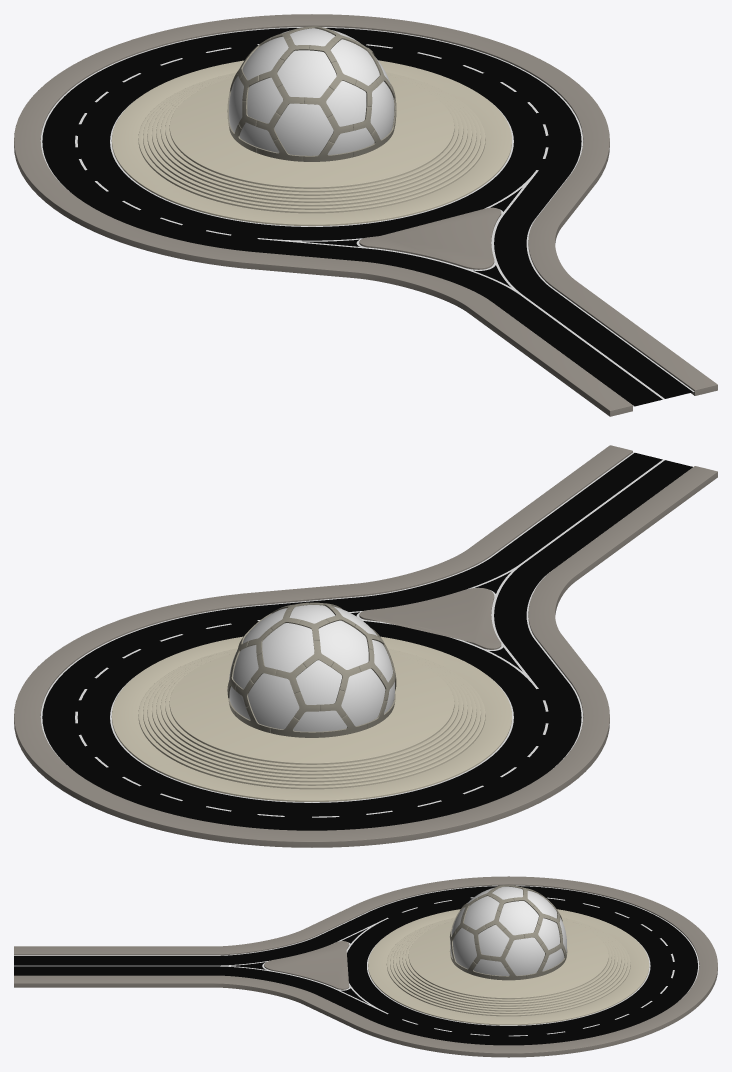
File: small_dome_simple.fbx
3 renders of one model, top to bottom at view 1: azimuth 30°, elevation 25°; view 2: azimuth 150°, elevation 25°; view 3: azimuth 270°, elevation 25°, orthographic. The views are drawn at different scales.
Parts seen in each view (by area): view 1: small road, small sidewalk, small sidewalk.001, small dome glass, small dome frame part 3, small dome frame part 6, small dome frame part 2, small dome frame part 4; view 2: small road, small sidewalk, small sidewalk.001, small dome glass, small dome frame part 3, small dome frame part 6, small dome frame part 2, small dome frame part 4, small dome frame part 5; view 3: small road, small sidewalk, small sidewalk.001, small dome glass, small dome frame part 6, small dome frame part 3, small dome frame part 2, small dome frame part 5, small dome frame part 4.
Part boxes in pixels (left/top/right/bottom): small road: left=40, top=27, right=694, bottom=406; small sidewalk: left=14, top=14, right=717, bottom=416; small sidewalk.001: left=111, top=60, right=511, bottom=226; small dome glass: left=229, top=28, right=394, bottom=155; small dome frame part 3: left=230, top=29, right=396, bottom=161; small dome frame part 6: left=227, top=26, right=388, bottom=161; small dome frame part 2: left=247, top=37, right=378, bottom=90; small dome frame part 4: left=238, top=84, right=396, bottom=143; small road: left=40, top=452, right=692, bottom=830; small sidewalk: left=14, top=445, right=717, bottom=847; small sidewalk.001: left=111, top=636, right=511, bottom=802; small dome glass: left=229, top=605, right=394, bottom=731; small dome frame part 3: left=227, top=602, right=393, bottom=737; small dome frame part 6: left=235, top=602, right=396, bottom=737; small dome frame part 2: left=247, top=606, right=378, bottom=667; small dome frame part 4: left=228, top=664, right=393, bottom=719; small dome frame part 5: left=235, top=657, right=396, bottom=718; small road: left=14, top=885, right=699, bottom=1045; small sidewalk: left=14, top=876, right=717, bottom=1057; small sidewalk.001: left=368, top=909, right=649, bottom=1025; small dome glass: left=450, top=886, right=566, bottom=975; small dome frame part 6: left=450, top=888, right=567, bottom=980; small dome frame part 3: left=450, top=885, right=567, bottom=978; small dome frame part 2: left=462, top=886, right=550, bottom=930; small dome frame part 5: left=450, top=931, right=564, bottom=967; small dome frame part 4: left=449, top=919, right=562, bottom=963.
Size of the model in its own units: 6692 by 1371 by 11254.
